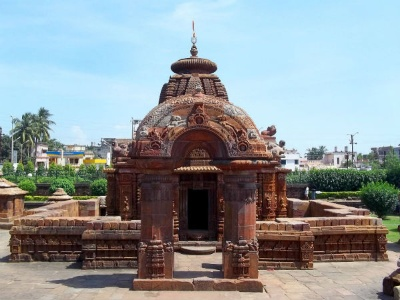amalaka: (162, 48, 232, 84)
torana: (124, 86, 278, 238)
